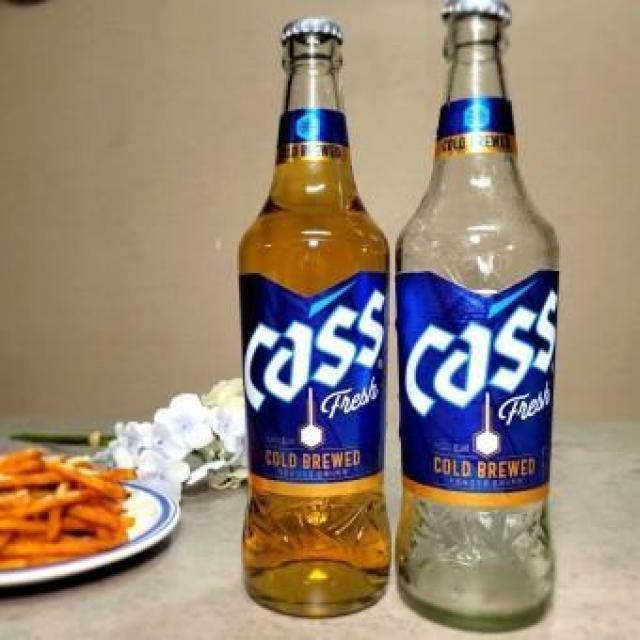beer-bottle: (398, 0, 575, 636), (226, 13, 395, 636)
